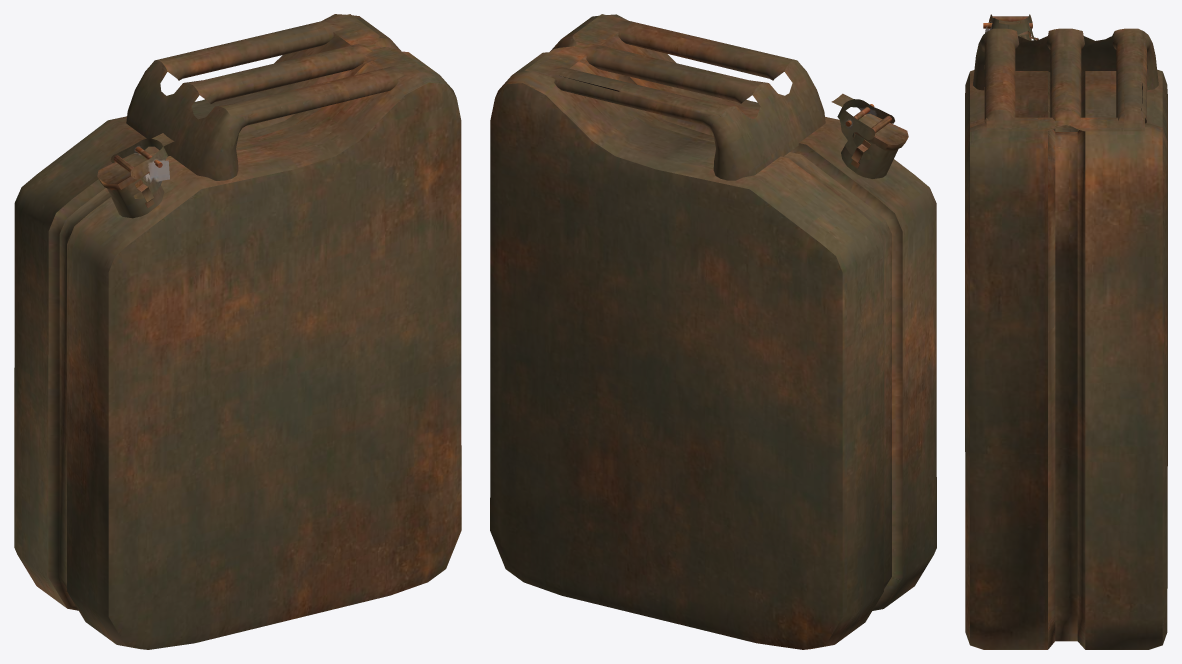
File: jerry_can_03.glb
The picture shows the model from 3 angles, left to right: view 1: azimuth 30°, elevation 25°; view 2: azimuth 150°, elevation 25°; view 3: azimuth 270°, elevation 25°; orthographic projection. The views are drawn at different scales.
Parts seen in each view (by area): view 1: jerry_can_03; view 2: jerry_can_03; view 3: jerry_can_03.
Boxes of the visible parts, x1=… form: jerry_can_03: x1=14, y1=14, x2=461, y2=649; jerry_can_03: x1=490, y1=14, x2=936, y2=649; jerry_can_03: x1=965, y1=14, x2=1167, y2=649.
Size of what is drawn, in the model's own units: 0.3432 by 0.47 by 0.1627.
1 material, 1 textured.
